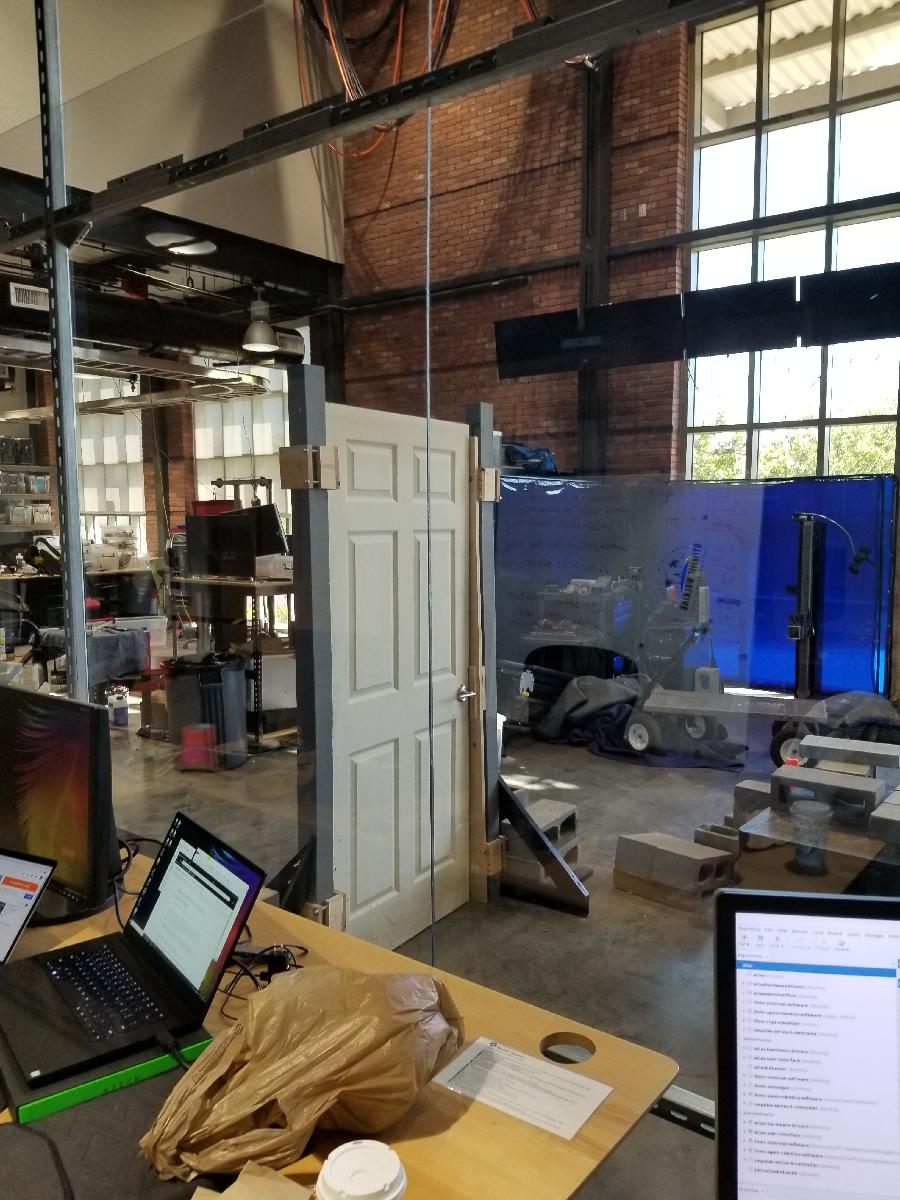door: (318, 397, 478, 967)
doorHandle: (451, 687, 480, 709)
